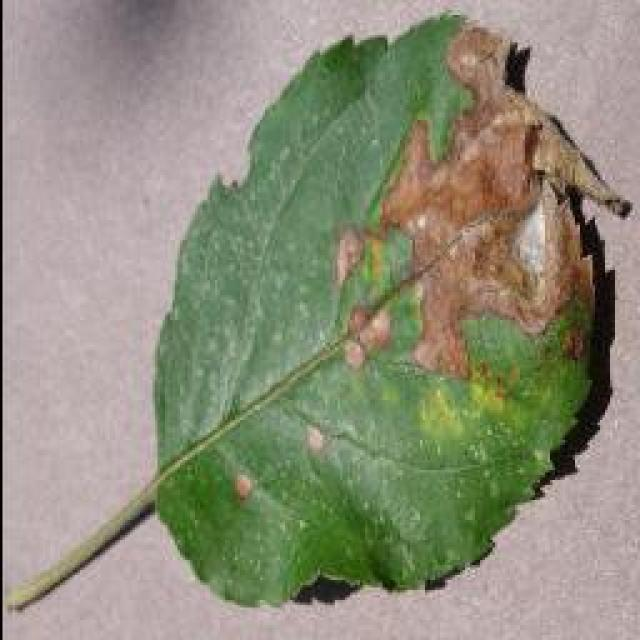Black_rot: (5, 8, 627, 612)
